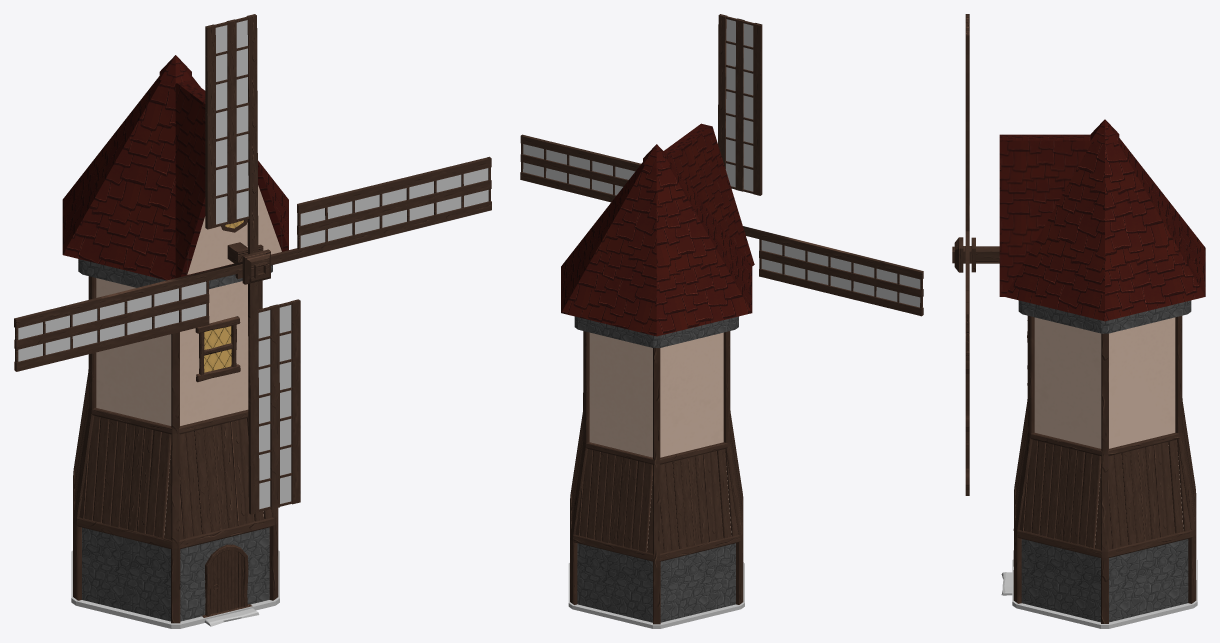
File: Windmill.fbx
The picture shows the model from 3 angles, left to right: view 1: azimuth 30°, elevation 25°; view 2: azimuth 150°, elevation 25°; view 3: azimuth 270°, elevation 25°; orthographic projection. The views are drawn at different scales.
Parts seen in each view (by area): view 1: Cylinder.016, Cylinder.015; view 2: Cylinder.016, Cylinder.015; view 3: Cylinder.016, Cylinder.015.
Part boxes in pixels (x1,y1,x2,y2): Cylinder.016: (62,55,288,628); Cylinder.015: (14,14,491,514); Cylinder.016: (561,123,754,628); Cylinder.015: (520,14,923,316); Cylinder.016: (952,119,1205,628); Cylinder.015: (965,14,969,495).
Bounding box in the file's own units: 22.79 × 28.4 × 11.83.
